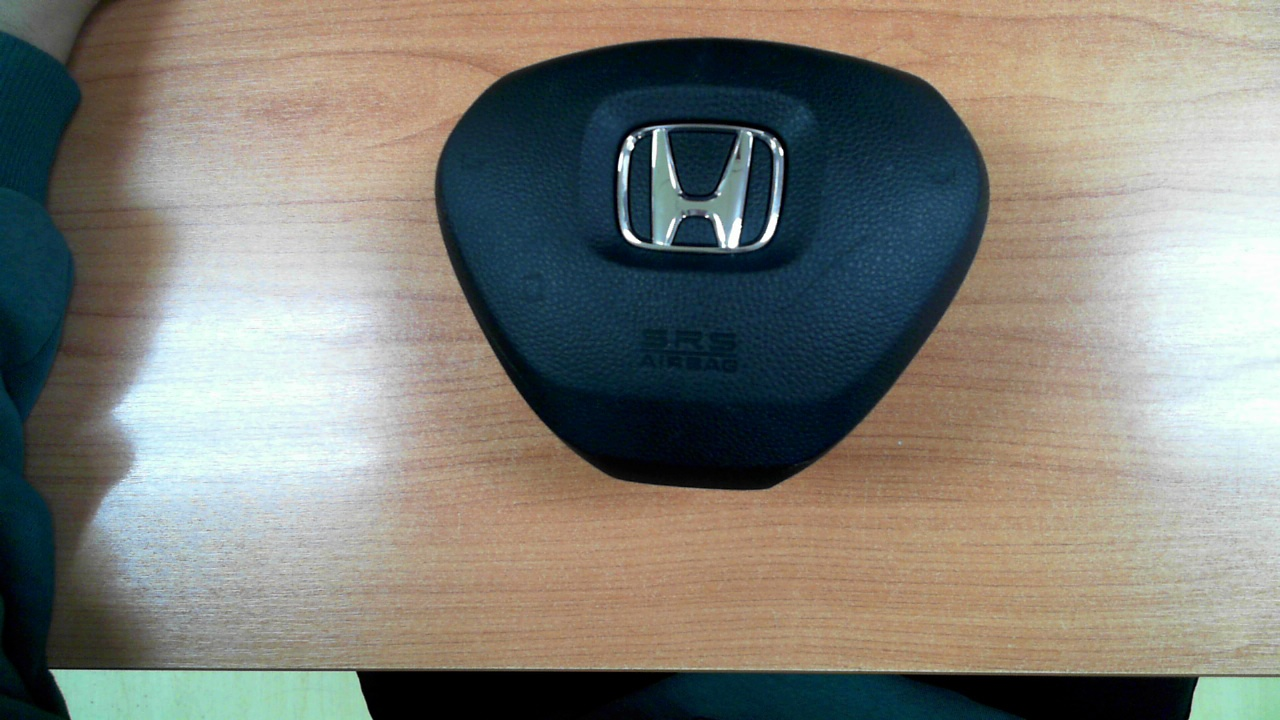Airbag: (435, 36, 990, 491)
Honda: (616, 123, 785, 254)
